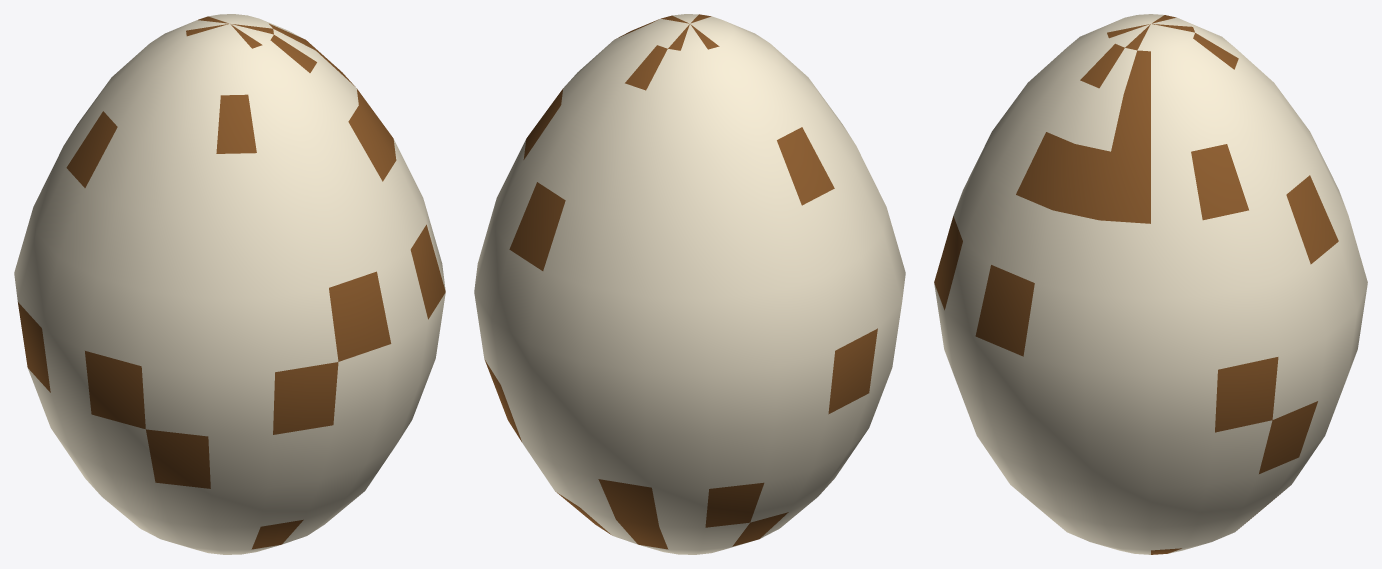
The model's file is Spotted.glb.
3 views of the same model, side by side, from view 1: azimuth 30°, elevation 25°; view 2: azimuth 150°, elevation 25°; view 3: azimuth 270°, elevation 25° (orthographic).
Parts seen in each view (by area): view 1: Spotted; view 2: Spotted; view 3: Spotted.
Boxes of the visible parts, x1,y1,x2,y2 form: Spotted: (14, 14, 445, 554); Spotted: (474, 14, 905, 554); Spotted: (934, 14, 1367, 554).
Size of the model in its own units: 3.04 by 4 by 3.04.
Materials: 1 (1 with a texture image).
